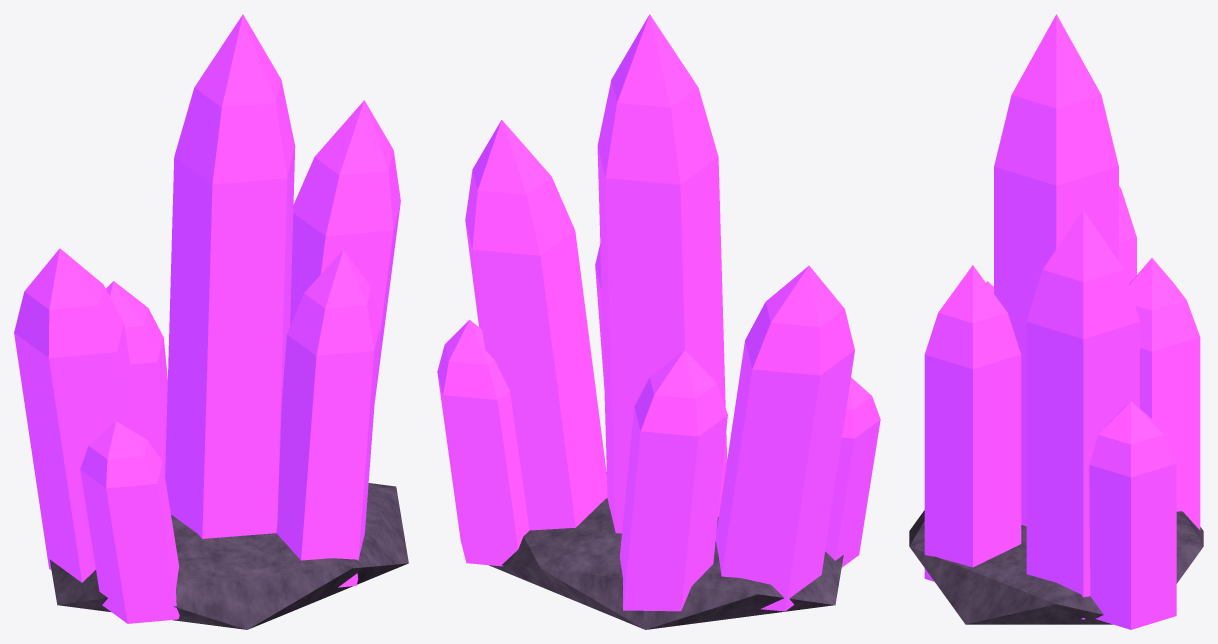
Rendered from corrupt-crystal-cluster.glb.
3 renders of one model, left to right at view 1: azimuth 30°, elevation 25°; view 2: azimuth 150°, elevation 25°; view 3: azimuth 270°, elevation 25°, orthographic.
Parts seen in each view (by area): view 1: Rooted amethyst shard 0, Grounded fractured basalt root; view 2: Rooted amethyst shard 0, Grounded fractured basalt root; view 3: Rooted amethyst shard 0, Grounded fractured basalt root.
Boxes of the visible parts, <box> form: Rooted amethyst shard 0: <box>14,14,400,623</box>; Grounded fractured basalt root: <box>49,483,408,629</box>; Rooted amethyst shard 0: <box>437,14,880,611</box>; Grounded fractured basalt root: <box>489,472,843,629</box>; Rooted amethyst shard 0: <box>924,14,1200,629</box>; Grounded fractured basalt root: <box>909,510,1203,624</box>.
Size of the model in its own units: 1.47 by 2.12 by 0.9867.
2 materials, 1 textured.
